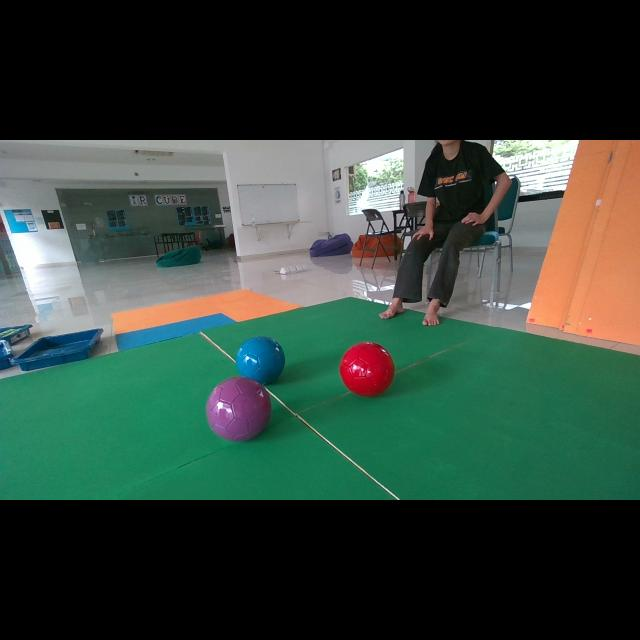B: (236, 336, 285, 385)
P: (206, 376, 271, 441)
R: (340, 341, 395, 396)
